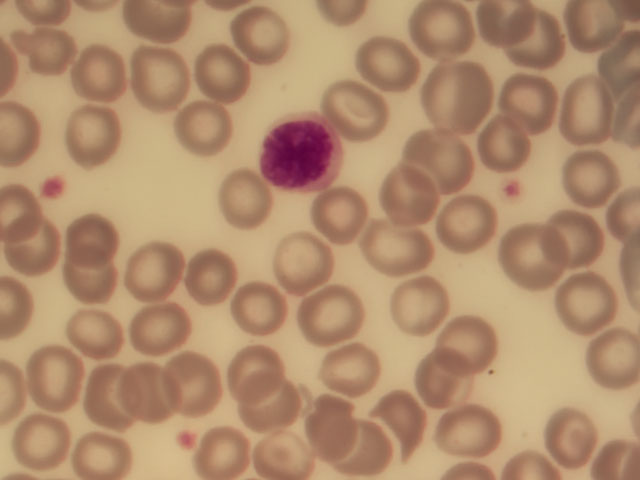Platelets: (38, 171, 76, 207), (499, 172, 522, 204), (174, 429, 201, 453)
RBC: (59, 102, 124, 173), (15, 17, 80, 85), (61, 38, 126, 106), (124, 42, 189, 110), (190, 34, 255, 102), (169, 92, 234, 160), (231, 4, 296, 72), (330, 68, 395, 136), (358, 29, 423, 97), (411, 2, 476, 70), (425, 64, 490, 132), (469, 109, 534, 177), (503, 75, 568, 143), (485, 1, 550, 69), (551, 82, 616, 150), (557, 140, 622, 208), (544, 202, 609, 270), (502, 229, 567, 297), (555, 272, 620, 340), (575, 324, 640, 392), (538, 410, 603, 478), (435, 395, 500, 463), (416, 349, 481, 417), (443, 304, 508, 372), (385, 269, 450, 337), (356, 218, 421, 286), (370, 165, 435, 233), (412, 123, 477, 191), (434, 189, 499, 257), (304, 186, 369, 254), (268, 231, 333, 299), (292, 279, 357, 347), (320, 337, 385, 405), (302, 392, 367, 460), (236, 377, 301, 445), (222, 340, 287, 408), (227, 277, 292, 345), (187, 243, 252, 311), (208, 168, 273, 236), (121, 241, 186, 309), (129, 291, 194, 359), (166, 351, 231, 419), (120, 355, 185, 423), (72, 370, 137, 438), (72, 303, 137, 371), (57, 248, 122, 316), (64, 205, 129, 273), (7, 208, 72, 276), (25, 343, 90, 411), (15, 406, 80, 474), (72, 412, 137, 480), (565, 1, 630, 68), (248, 429, 312, 480), (193, 425, 257, 476)
WBC: (262, 113, 351, 193)
